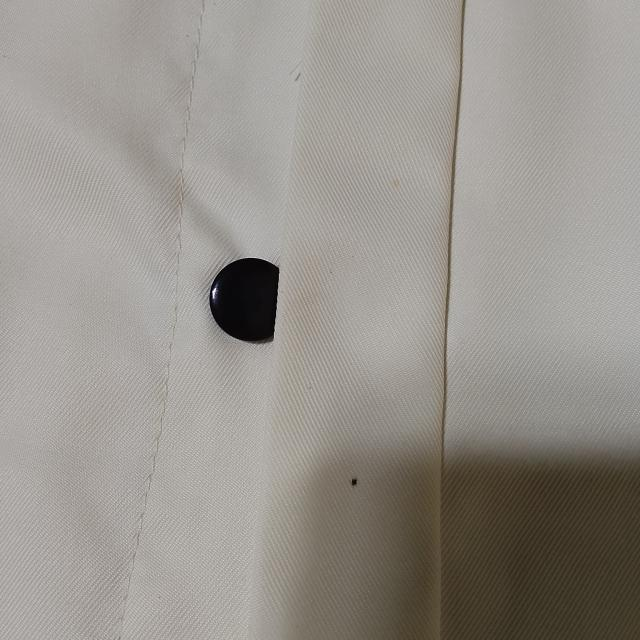education_male_uniform: (175, 0, 446, 545)
